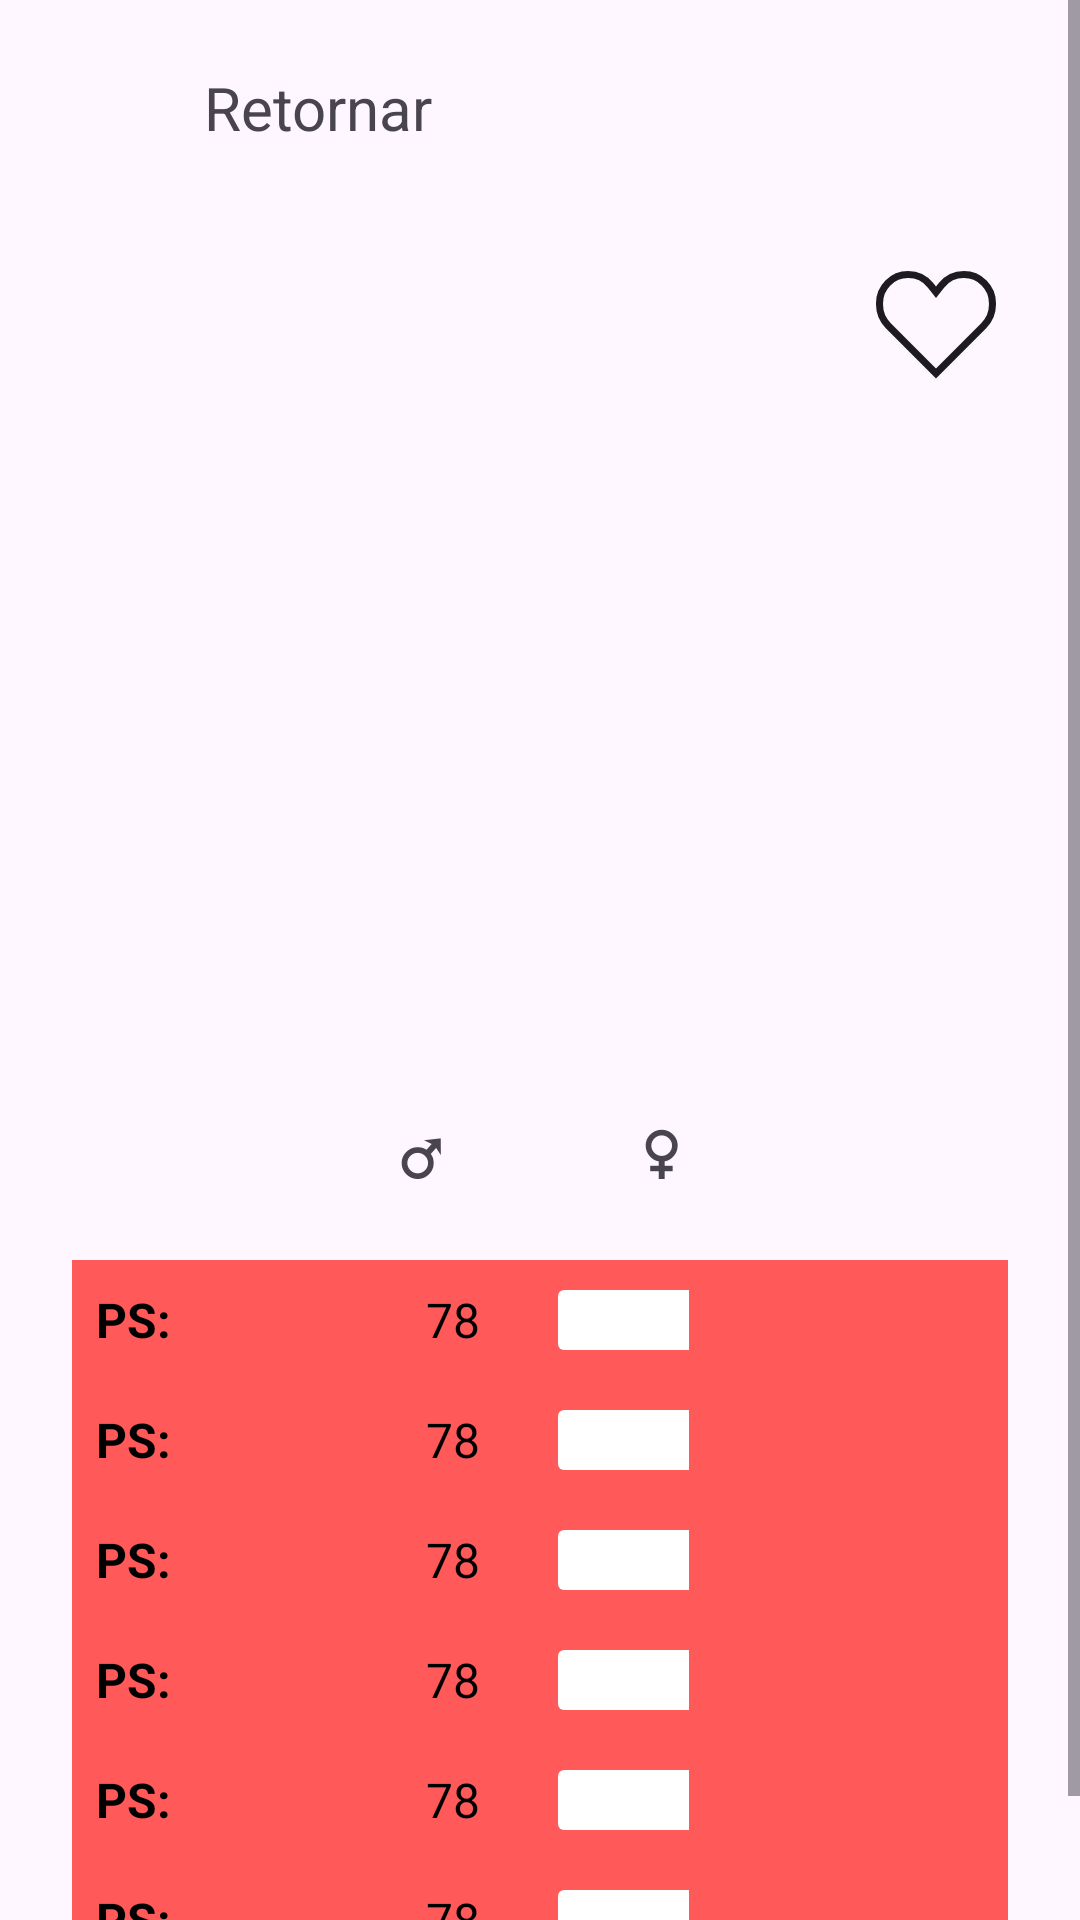

Icons on this 1080w x 1920h Android screen, each with the point to tap as [x,y]:
Favoritar: [936,325]
